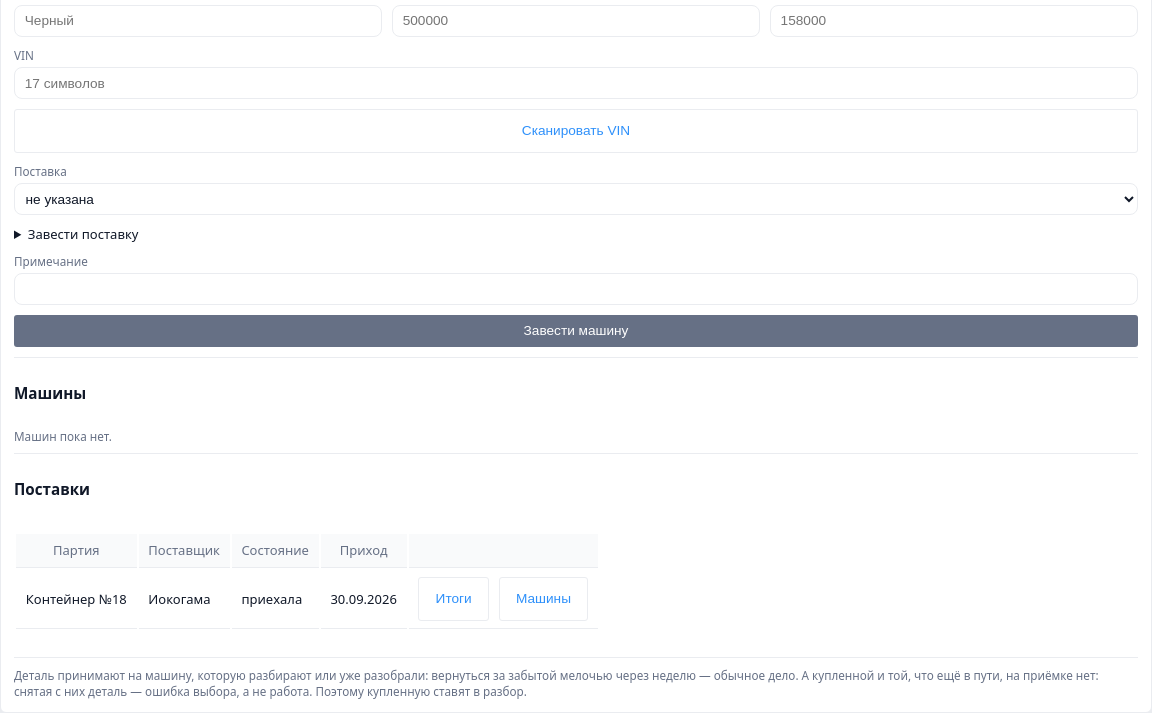
Test case: поставка: итоги › раскрывается под строкой словами окна поставки
(page scrolled)
Click the button "Итоги" at {"x": 454, "y": 599}, box [418,577,489,621]
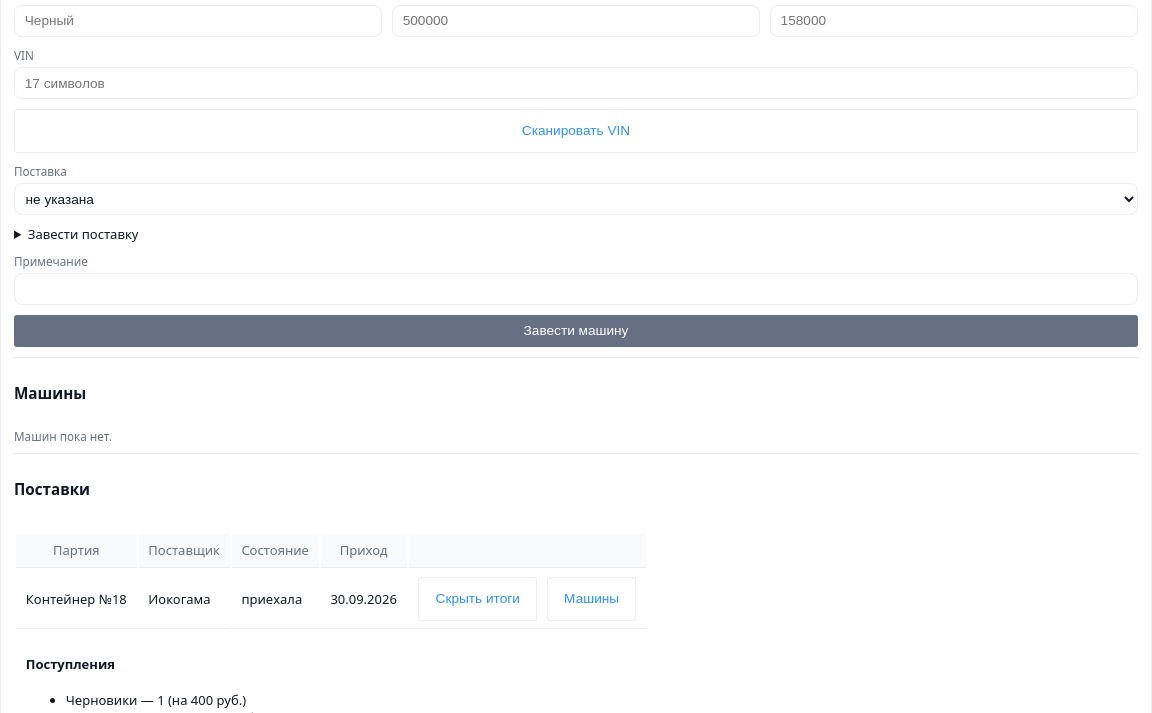
Expected: the heading "Поступления" is shown, [26,655,115,673]
Expected: the text "Черновики — 1 (на 400 руб.)" is shown, [66,690,246,708]
// Повторное нажатие сворачивает: кнопка говорит, что сделает.
Click the button "Скрыть итоги" at {"x": 478, "y": 599}, box [418,577,537,621]
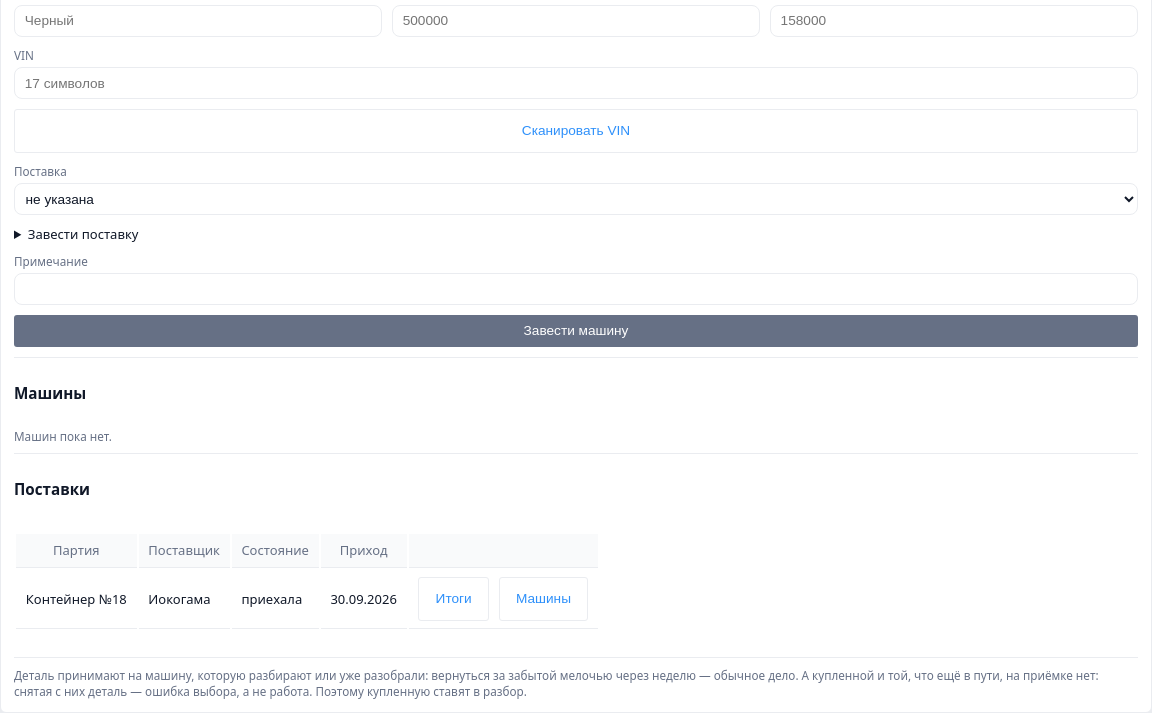
Expected: the heading "Поступления" is gone
